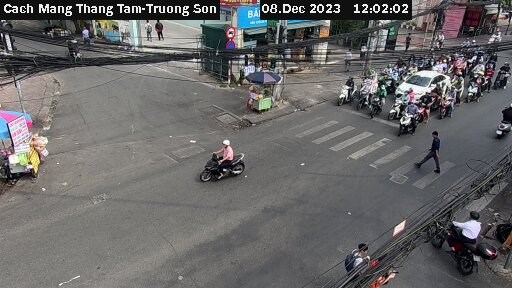car: (395, 70, 449, 100)
motorbike: (426, 203, 496, 276), (204, 142, 259, 196), (330, 76, 359, 104), (397, 104, 424, 132), (492, 102, 512, 139), (436, 90, 459, 121), (491, 58, 512, 89), (462, 76, 487, 101), (366, 89, 387, 113), (352, 83, 370, 108)
